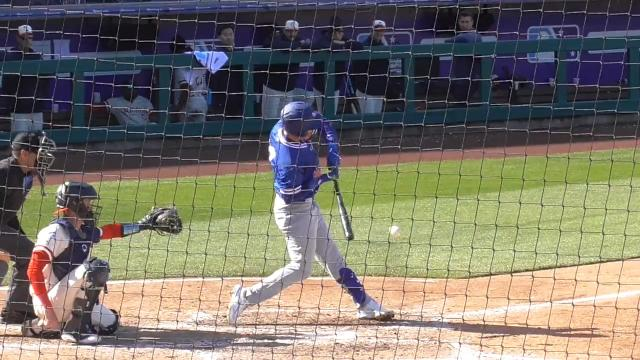baseball bat: (332, 180, 354, 241)
sports ball: (388, 227, 400, 236)
